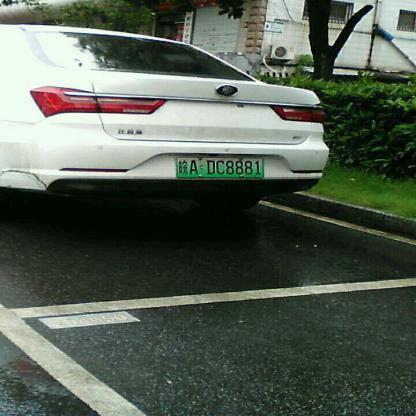lp: (177, 155, 263, 177)
